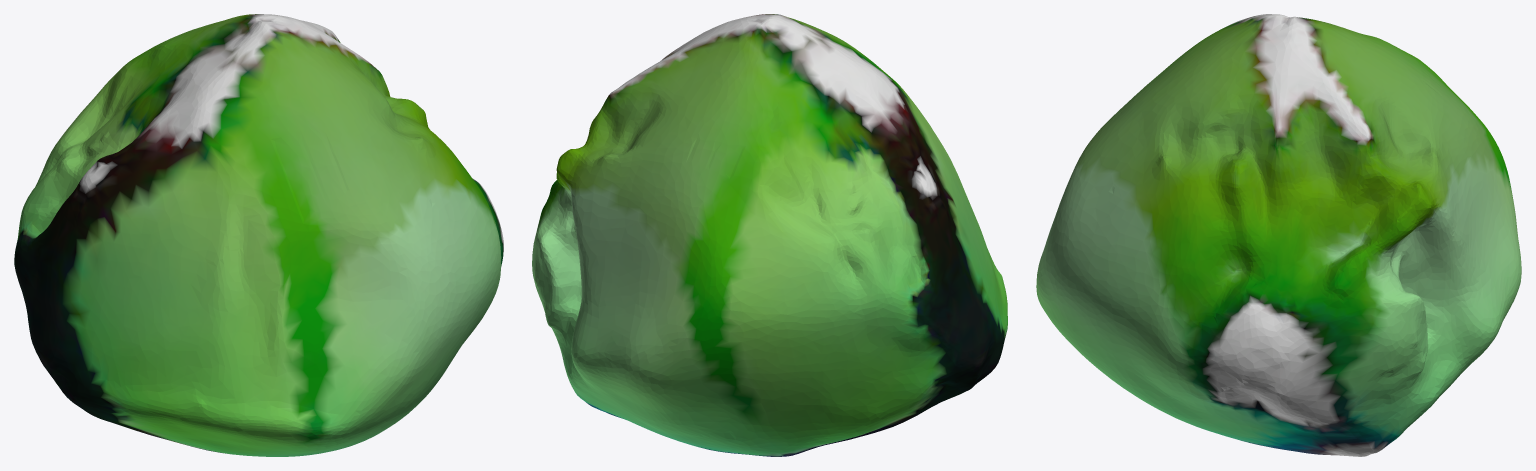
Rendered from cabbage.glb.
The picture shows the model from 3 angles, left to right: view 1: azimuth 30°, elevation 25°; view 2: azimuth 150°, elevation 25°; view 3: azimuth 270°, elevation 25°; orthographic projection. The views are drawn at different scales.
Parts seen in each view (by area): view 1: geometry_0; view 2: geometry_0; view 3: geometry_0.
Part boxes in pixels (x1=…): geometry_0: x1=14, y1=14, x2=503, y2=456; geometry_0: x1=532, y1=14, x2=1007, y2=456; geometry_0: x1=1036, y1=14, x2=1521, y2=456.
Bounding box in the file's own units: 0.6562 × 0.6119 × 0.6539.
